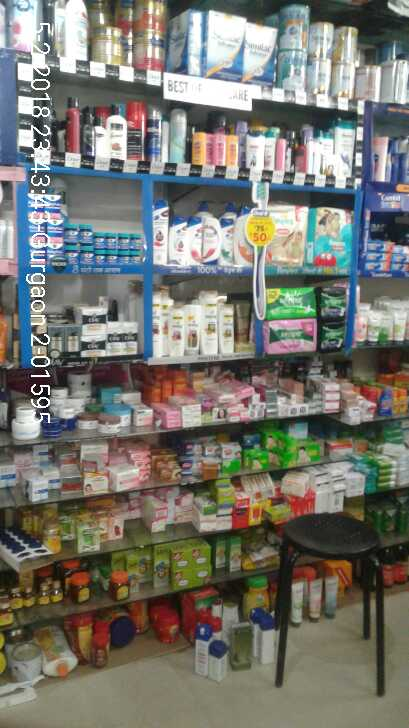vicks: (25, 189, 149, 262)
